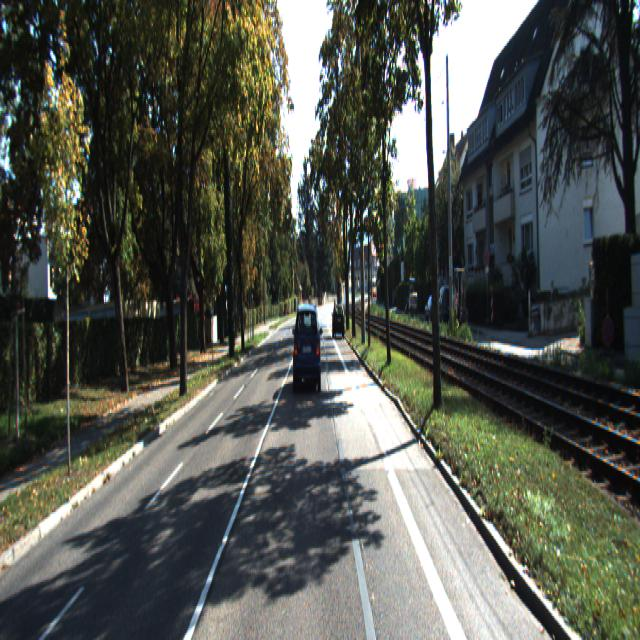Car: (293, 301, 322, 395), (452, 265, 469, 327), (436, 283, 456, 326), (425, 293, 443, 323), (333, 304, 345, 339)
